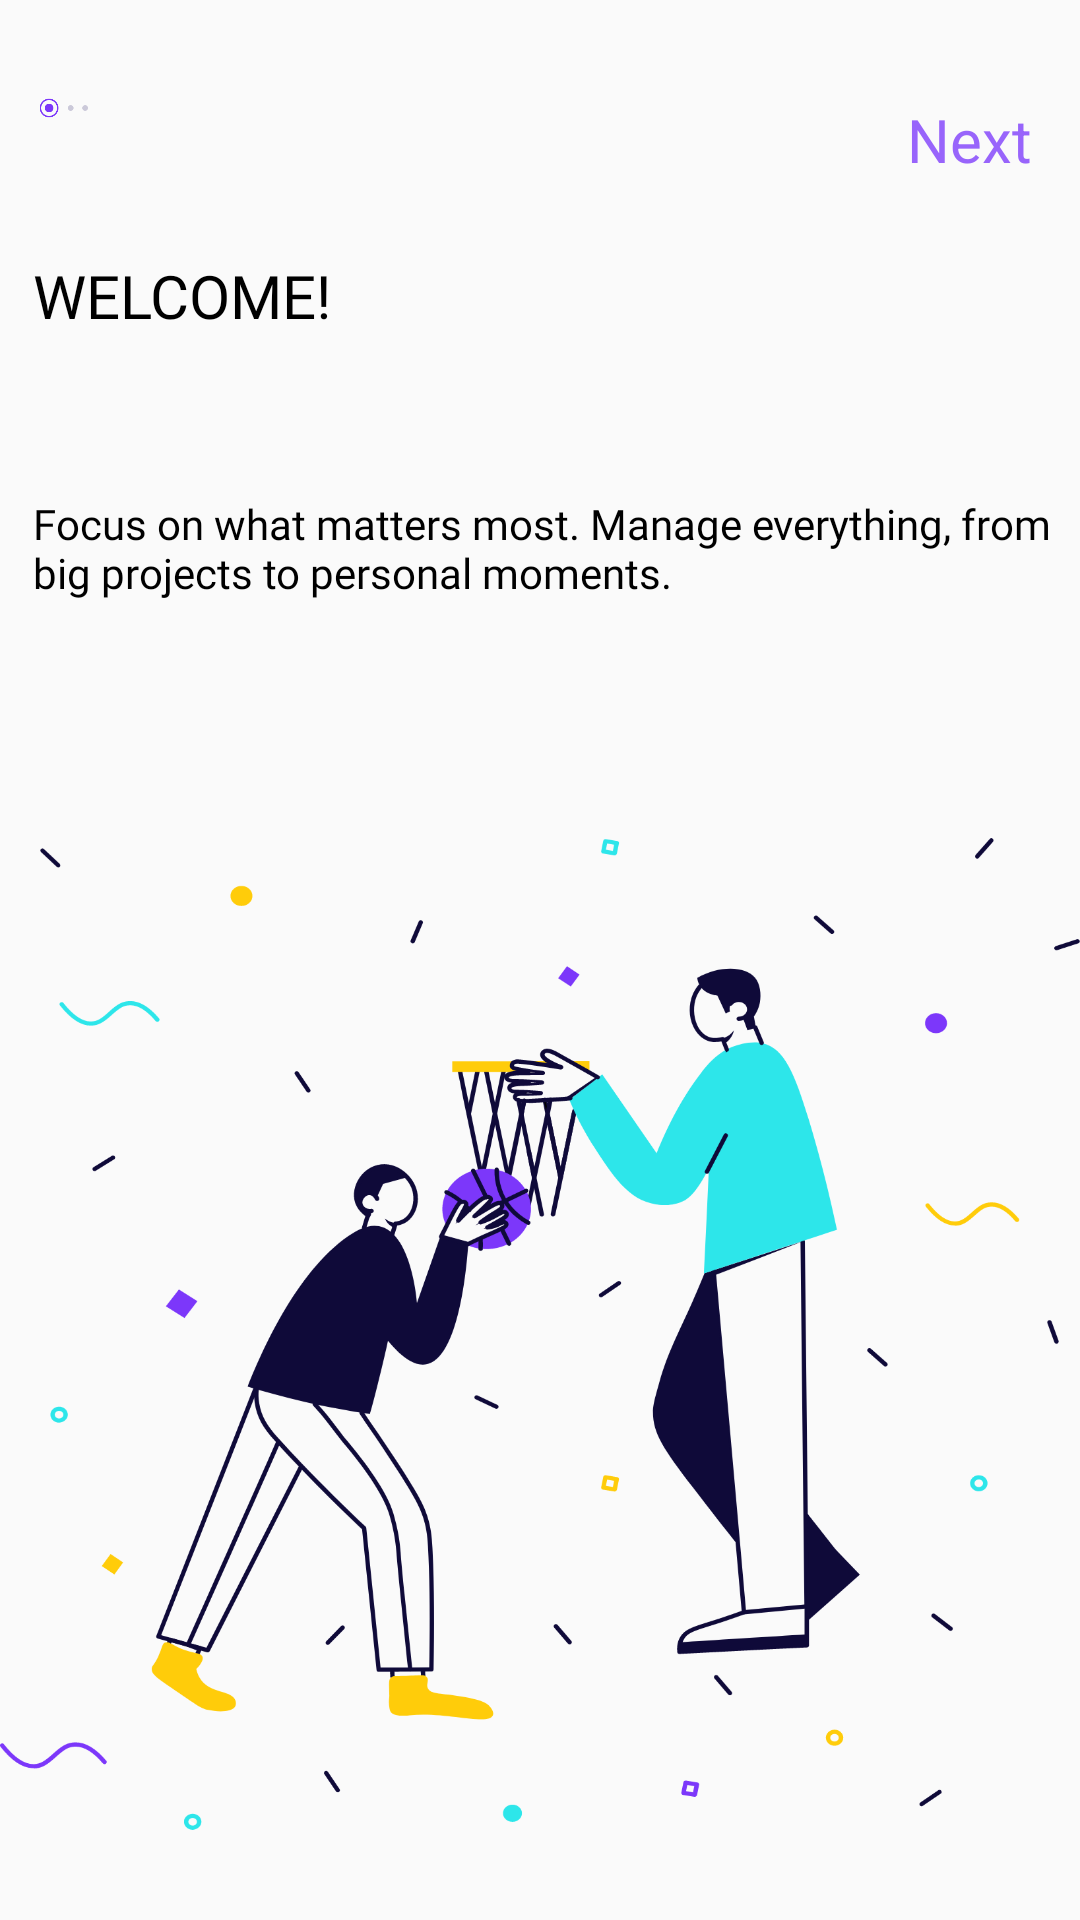

Screen size 1080px x 1920px. Icon name, then its center in pixels as point (x, y):
dot: point (64, 108)
